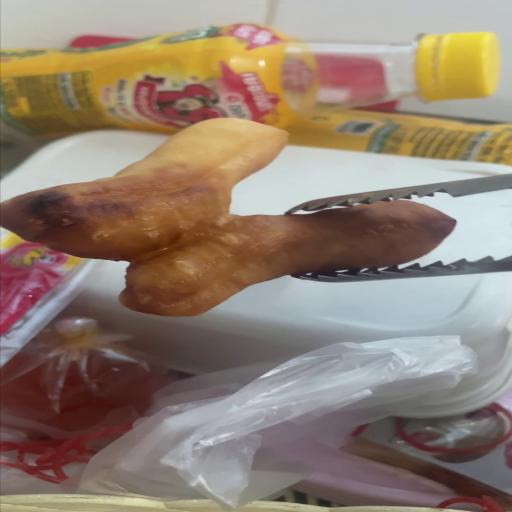street_burnt_good: (0, 119, 456, 316)
